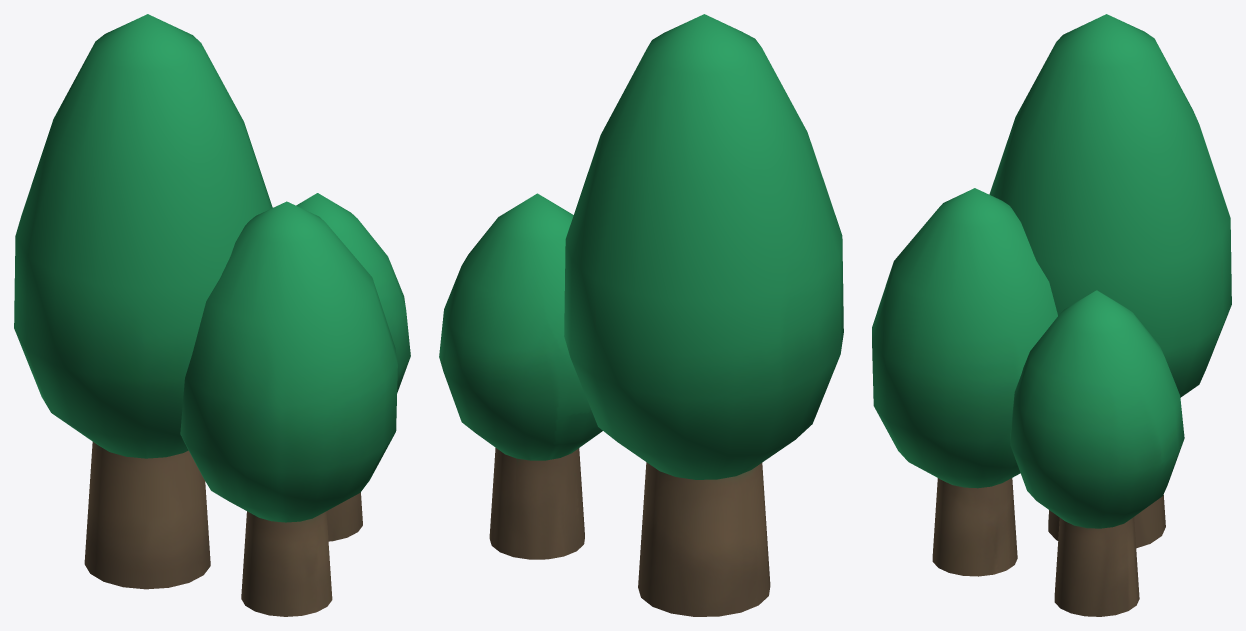
The model's file is tree 2.fbx.
The picture shows the model from 3 angles, left to right: view 1: azimuth 30°, elevation 25°; view 2: azimuth 150°, elevation 25°; view 3: azimuth 270°, elevation 25°; orthographic projection. The views are drawn at different scales.
Visible parts, largest first — view 1: Sphere.001; view 2: Sphere.001; view 3: Sphere.001.
Part boxes in pixels (x1,y1,x2,y2): Sphere.001: (14, 14, 410, 616); Sphere.001: (439, 14, 843, 616); Sphere.001: (872, 14, 1231, 616).
Size of the model in its own units: 258 by 375 by 238.
